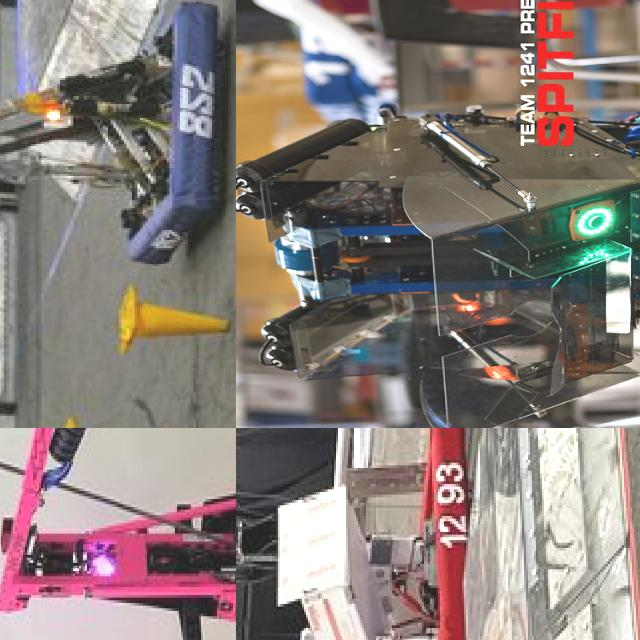FRC-Robots: (246, 0, 640, 428), (0, 0, 236, 304), (236, 428, 488, 640), (0, 428, 236, 640)
